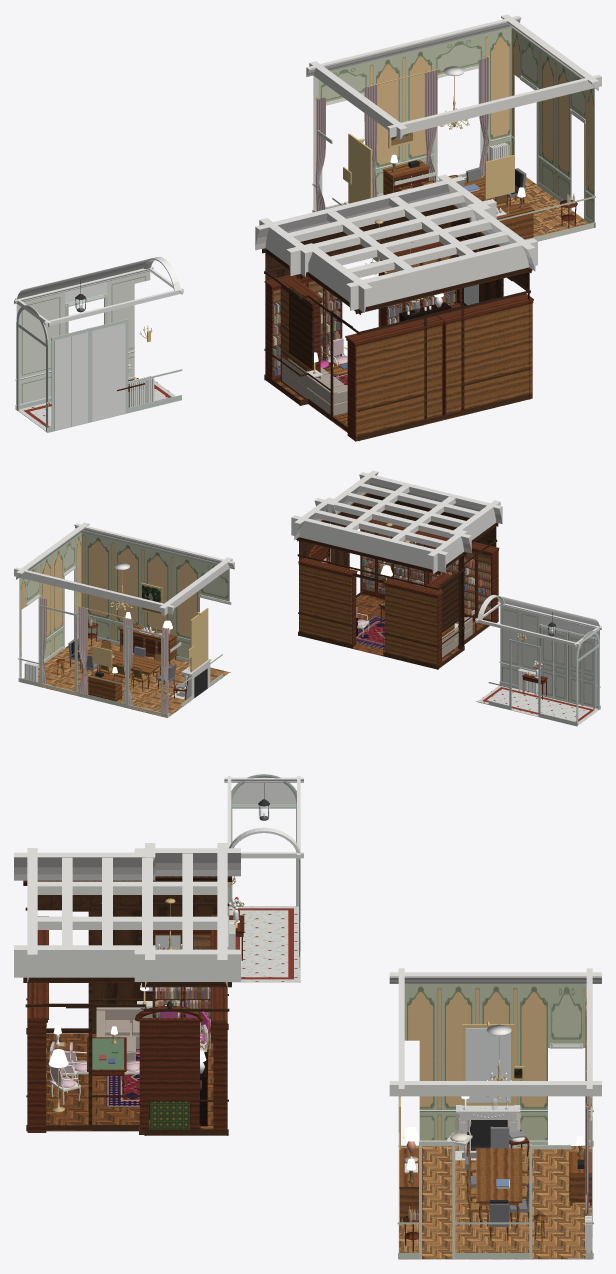
The model's file is piece_reception.glb.
3 views of the same model, one above another, from view 1: azimuth 30°, elevation 25°; view 2: azimuth 150°, elevation 25°; view 3: azimuth 270°, elevation 25° (orthographic). The views are drawn at different scales.
Parts seen in each view (by area): view 1: bibliotheque_moulures_chambranles, salle_a_manger_boiseries, salle_a_manger_moulures_chambranles, bibliotheque_meuble_nord_ouest, bibliotheque_meuble_nord_est, bibliotheque_plafond_caissons, degagement_no_placards, degagement_no_boiseries, degagement_no_moulures_chambranles, salle_a_manger_rideaux_tringles, bibliotheque_meuble_sud_ouest, bibliotheque_boiseries (+13 smaller); view 2: salle_a_manger_boiseries, bibliotheque_moulures_chambranles, salle_a_manger_moulures_chambranles, bibliotheque_plafond_caissons, bibliotheque_meuble_sud_est, bibliotheque_meuble_sud_ouest, salle_a_manger_parquet, degagement_no_placards, degagement_no_moulures_chambranles, degagement_no_boiseries, bibliotheque_meuble_nord_ouest, salle_a_manger_rideaux_tringles (+17 smaller); view 3: bibliotheque_moulures_chambranles, salle_a_manger_boiseries, salle_a_manger_parquet, salle_a_manger_moulures_chambranles, bibliotheque_plafond_caissons, bibliotheque_cheminee_trumeau, bibliotheque_parquet, bibliotheque_boiseries, degagement_no_dallage, salle_a_manger_trumeau_garniture, bibliotheque_meuble_nord_est, salle_a_manger_table (+14 smaller).
Part boxes in pixels (box(x1,y1,x2,y2)): bibliotheque_moulures_chambranles: box(255, 174, 537, 441); salle_a_manger_boiseries: box(313, 27, 594, 221); salle_a_manger_moulures_chambranles: box(306, 14, 601, 261); bibliotheque_meuble_nord_ouest: box(345, 315, 443, 441); bibliotheque_meuble_nord_est: box(436, 293, 533, 419); bibliotheque_plafond_caissons: box(280, 192, 509, 280); degagement_no_placards: box(54, 323, 125, 430); degagement_no_boiseries: box(16, 271, 150, 404); degagement_no_moulures_chambranles: box(14, 266, 183, 432); salle_a_manger_rideaux_tringles: box(315, 56, 489, 211); bibliotheque_meuble_sud_ouest: box(264, 275, 342, 382); bibliotheque_boiseries: box(265, 207, 529, 393); salle_a_manger_boiseries: box(19, 532, 229, 678); bibliotheque_moulures_chambranles: box(291, 470, 502, 669); salle_a_manger_moulures_chambranles: box(14, 522, 234, 717); bibliotheque_plafond_caissons: box(314, 483, 482, 550); bibliotheque_meuble_sud_est: box(298, 558, 357, 646); bibliotheque_meuble_sud_ouest: box(384, 578, 443, 665); salle_a_manger_parquet: box(20, 638, 228, 716); degagement_no_placards: box(541, 627, 594, 707); degagement_no_moulures_chambranles: box(475, 602, 601, 726); degagement_no_boiseries: box(500, 605, 599, 704); bibliotheque_meuble_nord_ouest: box(427, 533, 499, 622); salle_a_manger_rideaux_tringles: box(40, 596, 169, 713); bibliotheque_moulures_chambranles: box(14, 843, 240, 1135); salle_a_manger_boiseries: box(404, 984, 591, 1140); salle_a_manger_parquet: box(399, 1146, 592, 1259); salle_a_manger_moulures_chambranles: box(389, 968, 601, 1259); bibliotheque_plafond_caissons: box(37, 853, 217, 962); bibliotheque_cheminee_trumeau: box(135, 1001, 204, 1134); bibliotheque_parquet: box(46, 1033, 226, 1135); bibliotheque_boiseries: box(37, 895, 217, 1028); degagement_no_dallage: box(229, 906, 300, 982); salle_a_manger_trumeau_garniture: box(461, 1021, 514, 1109); bibliotheque_meuble_nord_est: box(27, 983, 48, 1132); salle_a_manger_table: box(476, 1148, 522, 1227).
Bounding box in the file's own units: 20.3 × 4.8 × 14.09.
Materials: 79 (25 with a texture image).
